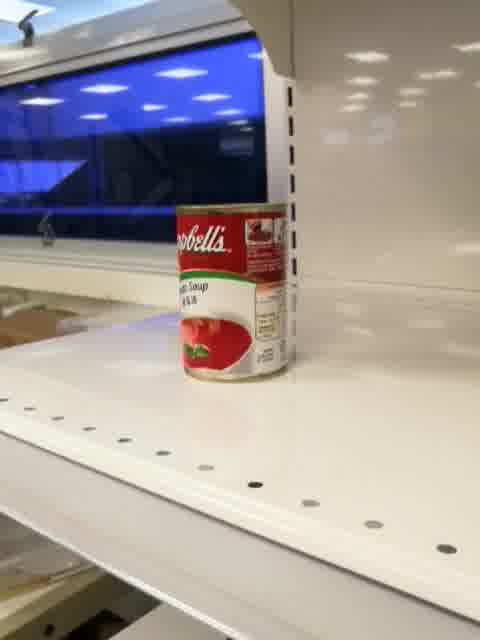tomatosoup: (171, 201, 296, 385)
